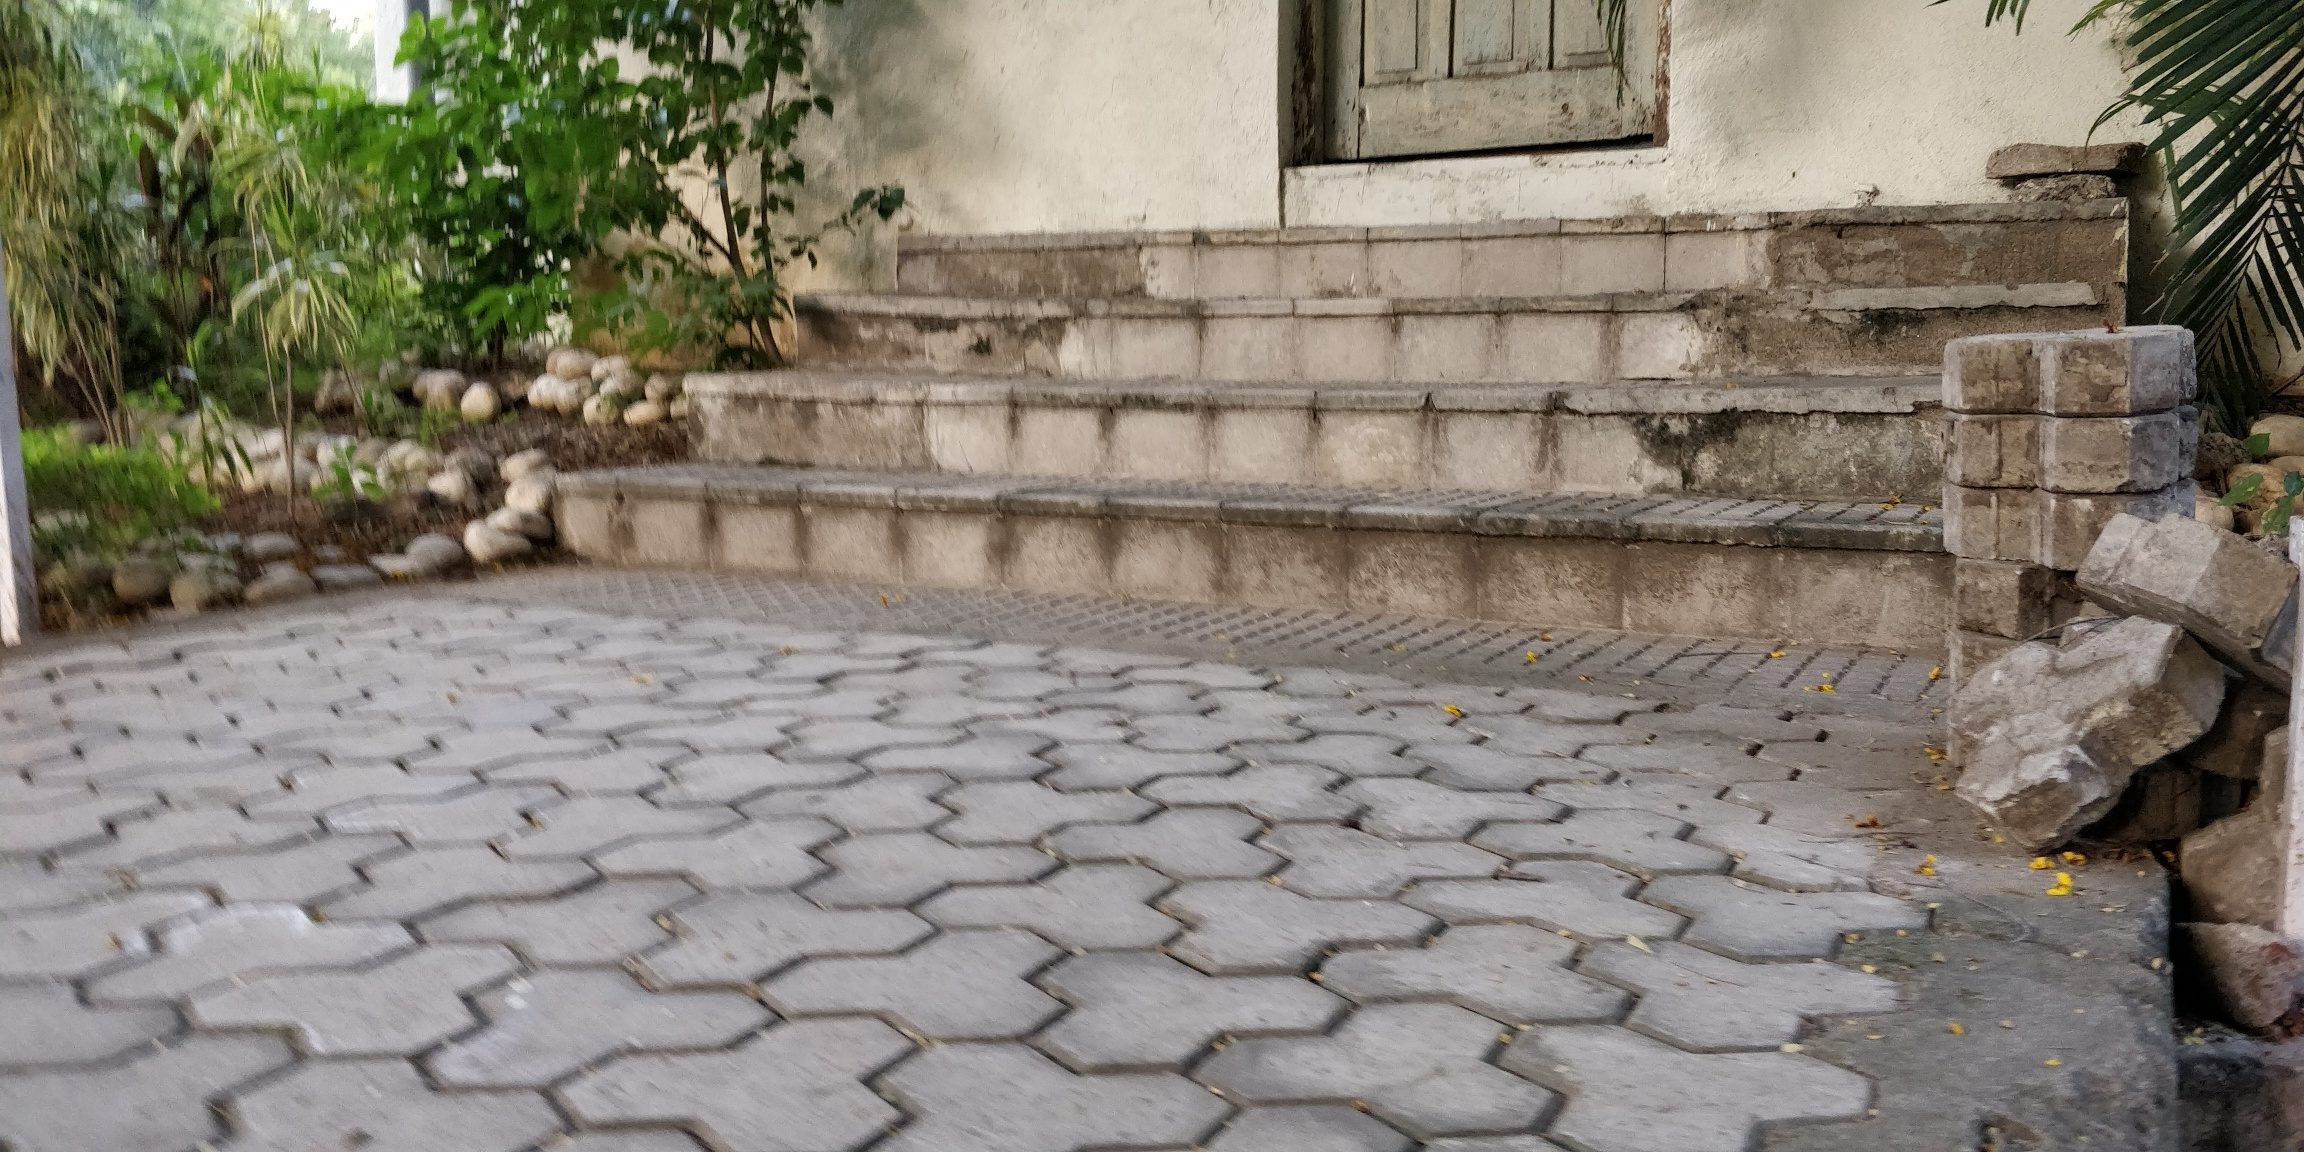stairs_up: (550, 170, 2094, 598)
